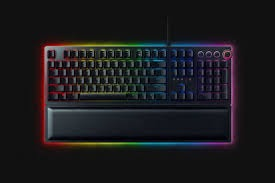keyboard: (39, 43, 238, 147)
